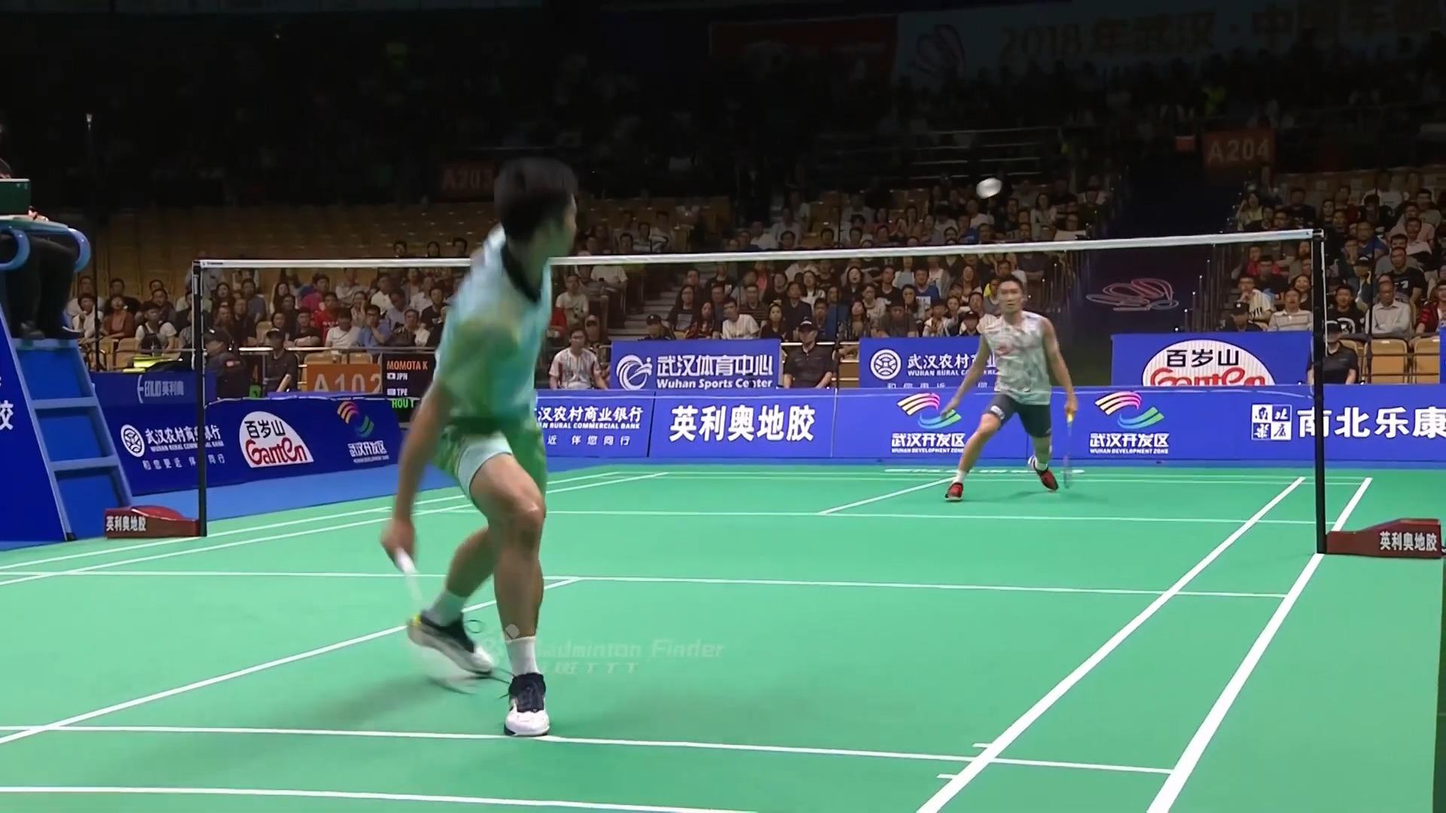player: (381, 159, 578, 739), (947, 276, 1075, 503)
